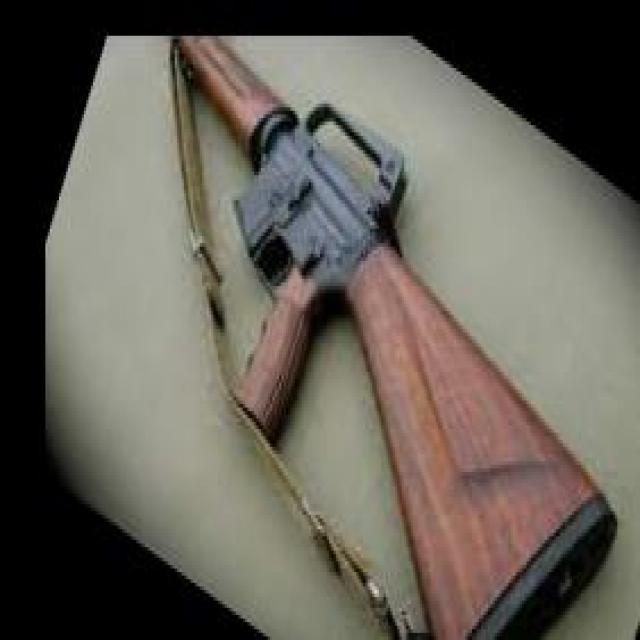Rifle: (173, 37, 619, 640)
